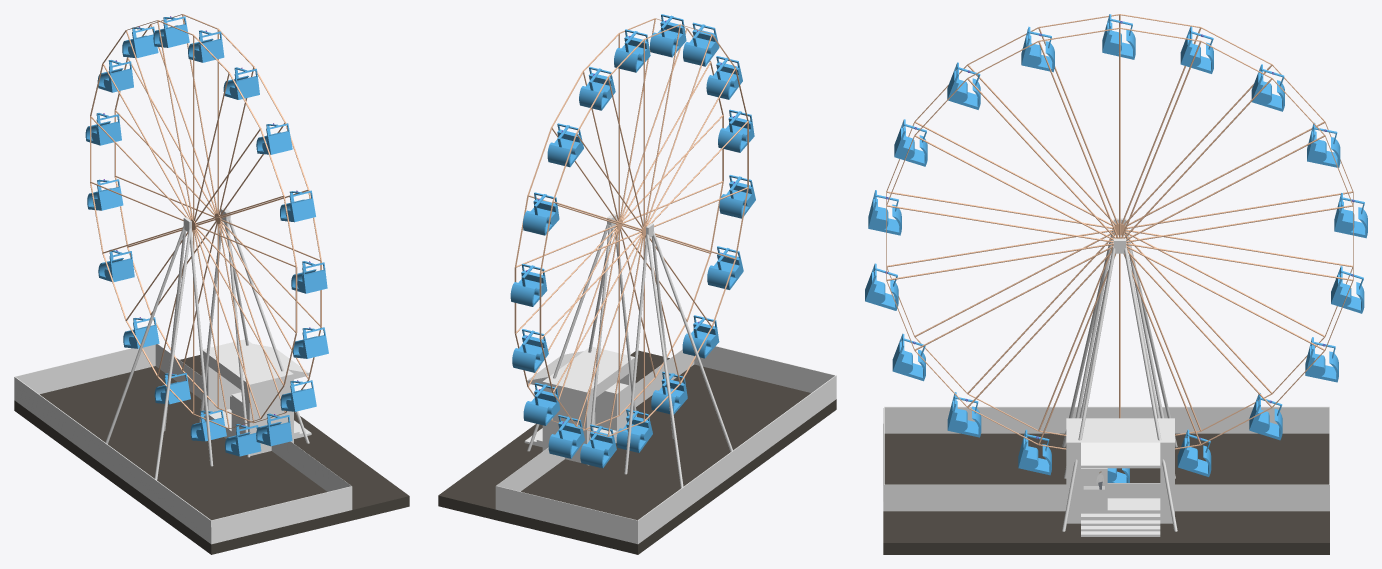
Rendered from wheel2.obj.
The picture shows the model from 3 angles, left to right: view 1: azimuth 30°, elevation 25°; view 2: azimuth 150°, elevation 25°; view 3: azimuth 270°, elevation 25°; orthographic projection. The views are drawn at different scales.
Parts seen in each view (by area): view 1: box_039, box_045, box_043, box_042, Group_001, box_044, box_041, cylinder_040, box_040, cylinder_044, cylinder_041, Group_020 (+22 smaller); view 2: box_039, box_043, box_045, Group_001, box_044, box_042, box_051, box_040, box_041, Group_026, Group_029, Group_033 (+23 smaller); view 3: box_039, box_043, box_045, box_041, box_040, Group_001, box_046, box_051, cylinder_047, cylinder_046, Group_023, Group_020 (+20 smaller).
Boxes of the visible parts, left/top/right/bottom form: box_039: left=14, top=355, right=409, bottom=554; box_045: left=201, top=339, right=293, bottom=455; box_043: left=14, top=376, right=210, bottom=543; box_042: left=211, top=486, right=352, bottom=544; Group_001: left=90, top=14, right=321, bottom=429; box_044: left=15, top=344, right=155, bottom=394; box_041: left=271, top=441, right=352, bottom=495; cylinder_040: left=154, top=228, right=191, bottom=479; box_040: left=155, top=344, right=201, bottom=399; cylinder_044: left=190, top=228, right=213, bottom=466; cylinder_041: left=105, top=225, right=184, bottom=444; Group_020: left=256, top=415, right=292, bottom=446; box_039: left=438, top=350, right=836, bottom=554; box_043: left=637, top=375, right=836, bottom=544; box_045: left=542, top=346, right=635, bottom=462; Group_001: left=514, top=18, right=748, bottom=436; box_044: left=496, top=486, right=637, bottom=543; box_042: left=694, top=346, right=836, bottom=398; box_051: left=595, top=382, right=628, bottom=430; box_040: left=495, top=447, right=564, bottom=509; box_041: left=635, top=349, right=694, bottom=406; Group_026: left=580, top=424, right=616, bottom=468; Group_029: left=548, top=415, right=584, bottom=458; Group_033: left=512, top=329, right=548, bottom=372; box_039: left=883, top=433, right=1329, bottom=554; box_043: left=884, top=406, right=1329, bottom=433; box_045: left=1066, top=418, right=1174, bottom=523; box_041: left=884, top=484, right=1066, bottom=511; box_040: left=1175, top=484, right=1329, bottom=511; Group_001: left=886, top=14, right=1353, bottom=449; box_046: left=1081, top=442, right=1160, bottom=468; box_051: left=1081, top=468, right=1107, bottom=510; cylinder_047: left=1124, top=247, right=1177, bottom=531; cylinder_046: left=1062, top=247, right=1115, bottom=531; Group_023: left=1018, top=429, right=1051, bottom=475; Group_020: left=947, top=392, right=981, bottom=437.
Bounding box in the file's own units: 795 × 1625 × 1540.
